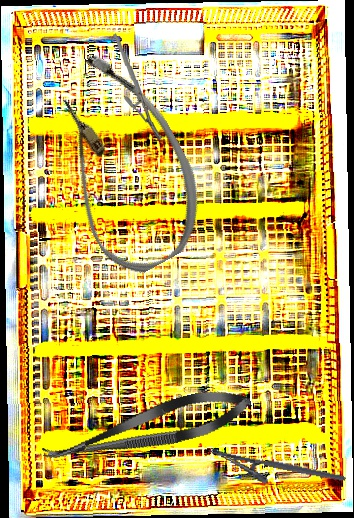Cannula: (17, 40, 226, 286)
Micro Scissor: (38, 380, 256, 477)
Needle Holder: (203, 446, 347, 501), (113, 30, 163, 144)
